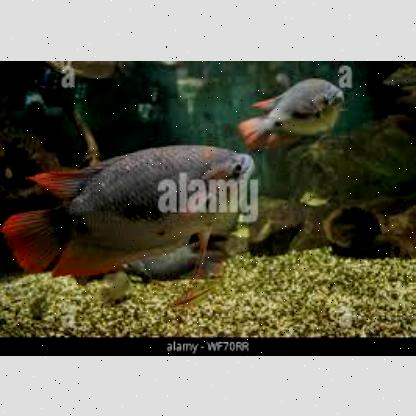gurame: (5, 142, 256, 276), (237, 78, 349, 156)
